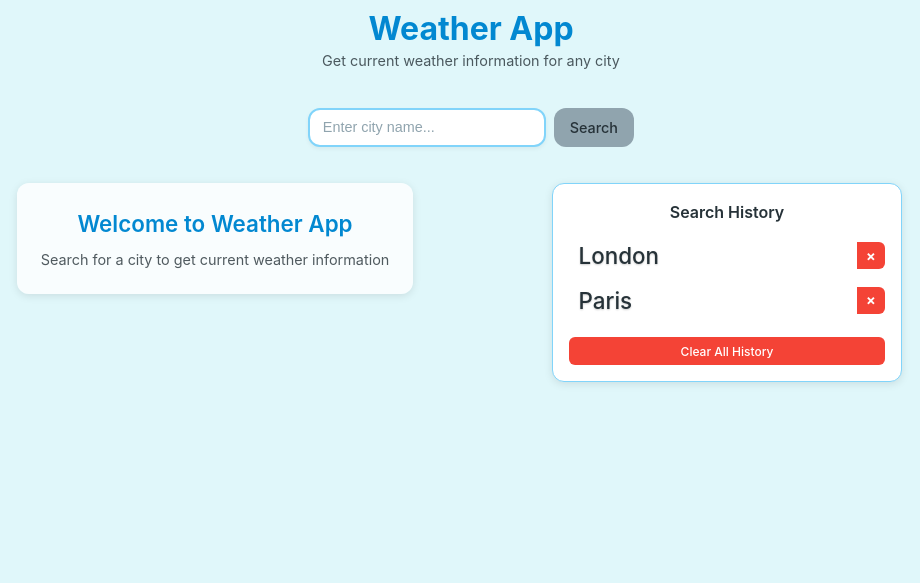
Test: Weather App - User Story 2 › allows clicking on history items to search for that city
Note: Find and click on a history item
Click the button with aria-label "search weather for london" at coordinates (619, 256), box [569,236,857,276]
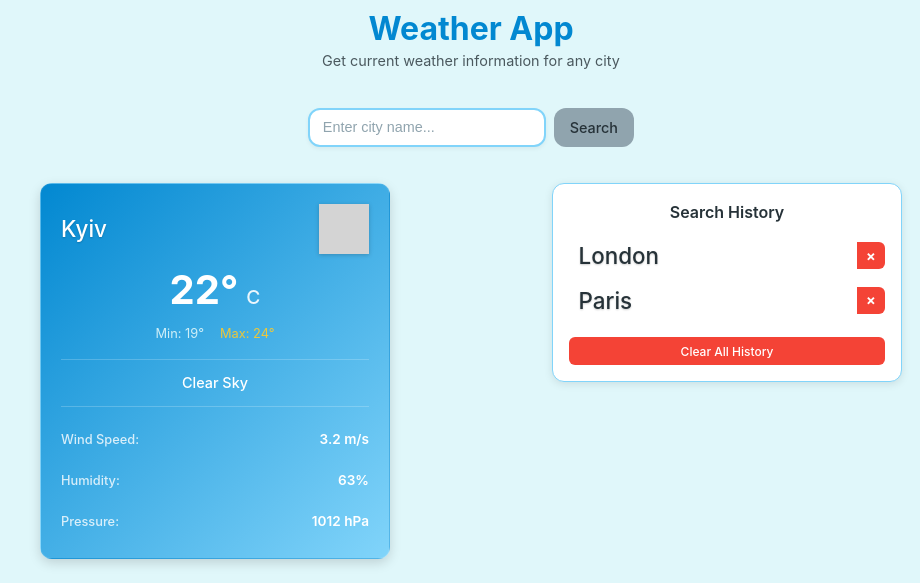
Check: the text "London" is shown, box [579,242,659,269]
Check: the text "clear sky" is shown, box [182,374,248,391]
Check: the text "22°" is shown, box [170,270,238,310]
